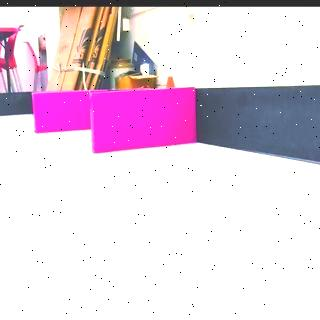xparking: (92, 88, 196, 150), (34, 90, 90, 136)
